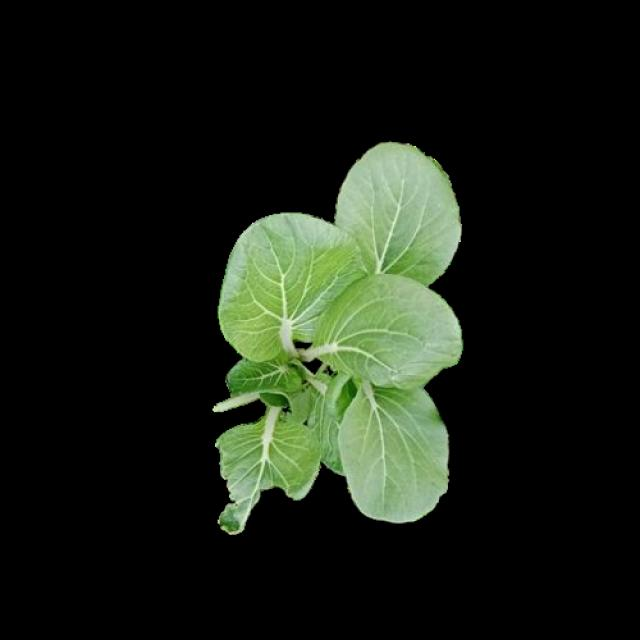mature: (219, 144, 462, 516)
unhealthy: (215, 412, 320, 535)
